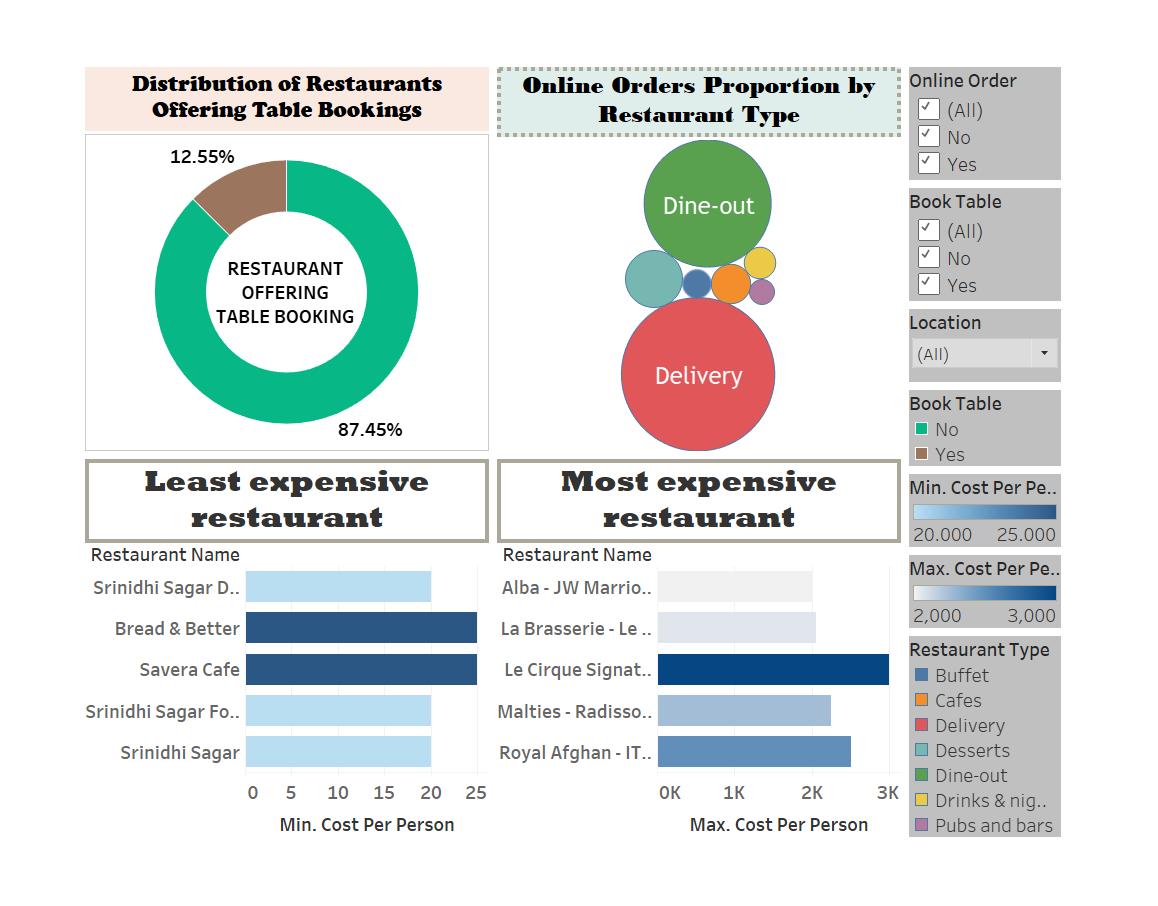

What the dashboard file says about the page in this screenshot:
{"tool":"tableau","page":{"name":"Dashboard 4","canvas":[1000,800],"ordinal":3},"visuals":[{"type":"worksheet","title":"Sheet 4 (3)","mark":"Pie","cols":["Calculation_1138847759896231939","Calculation_1138847759896244229"],"box":[8,8,412,392]},{"type":"worksheet","title":"Sheet 12","mark":"Circle","box":[420,8,412,392]},{"type":"filter","title":"Sheet 4 (3)","param":"[federated.1yisxas19rixzl1fxjour0m967z6].[none:online_order:nk]","box":[832,8,160,121]},{"type":"filter","title":"Sheet 4 (3)","param":"[federated.1yisxas19rixzl1fxjour0m967z6].[none:book_table:nk]","box":[832,129,160,121]},{"type":"filter","title":"Sheet 4 (3)","param":"[federated.1yisxas19rixzl1fxjour0m967z6].[none:location:nk]","box":[832,250,160,81]},{"type":"legend","title":"Sheet 4 (3)","param":"[federated.1yisxas19rixzl1fxjour0m967z6].[none:book_table:nk]","box":[832,331,160,84]},{"type":"worksheet","title":"Sheet 9","mark":"Automatic","rows":["restaurant_name"],"cols":["cost_per_person"],"box":[8,400,412,392]},{"type":"worksheet","title":"Sheet 8","mark":"Automatic","rows":["restaurant_name"],"cols":["cost_per_person"],"box":[420,400,412,392]},{"type":"legend","title":"Sheet 9","param":"[federated.1yisxas19rixzl1fxjour0m967z6].[min:cost_per_person:qk]","box":[832,415,160,81]},{"type":"legend","title":"Sheet 8","param":"[federated.1yisxas19rixzl1fxjour0m967z6].[max:cost_per_person:qk]","box":[832,496,160,81]},{"type":"legend","title":"Sheet 12","param":"[federated.1yisxas19rixzl1fxjour0m967z6].[none:restaurant_type:nk]","box":[832,577,160,209]}]}

Visuals, with their boxes in screenshot pixels (x1, y1, x2, y2), scaled from the page's 1000x800 canvas onto the 1158x906 screenshot:
"Sheet 4 (3)" worksheet (Pie marks): BBox(9, 9, 486, 453)
"Sheet 12" worksheet (Circle marks): BBox(486, 9, 963, 453)
"Sheet 4 (3)" filter: BBox(963, 9, 1149, 146)
"Sheet 4 (3)" filter: BBox(963, 146, 1149, 283)
"Sheet 4 (3)" filter: BBox(963, 283, 1149, 375)
"Sheet 4 (3)" legend: BBox(963, 375, 1149, 470)
"Sheet 9" worksheet: BBox(9, 453, 486, 897)
"Sheet 8" worksheet: BBox(486, 453, 963, 897)
"Sheet 9" legend: BBox(963, 470, 1149, 562)
"Sheet 8" legend: BBox(963, 562, 1149, 653)
"Sheet 12" legend: BBox(963, 653, 1149, 890)
